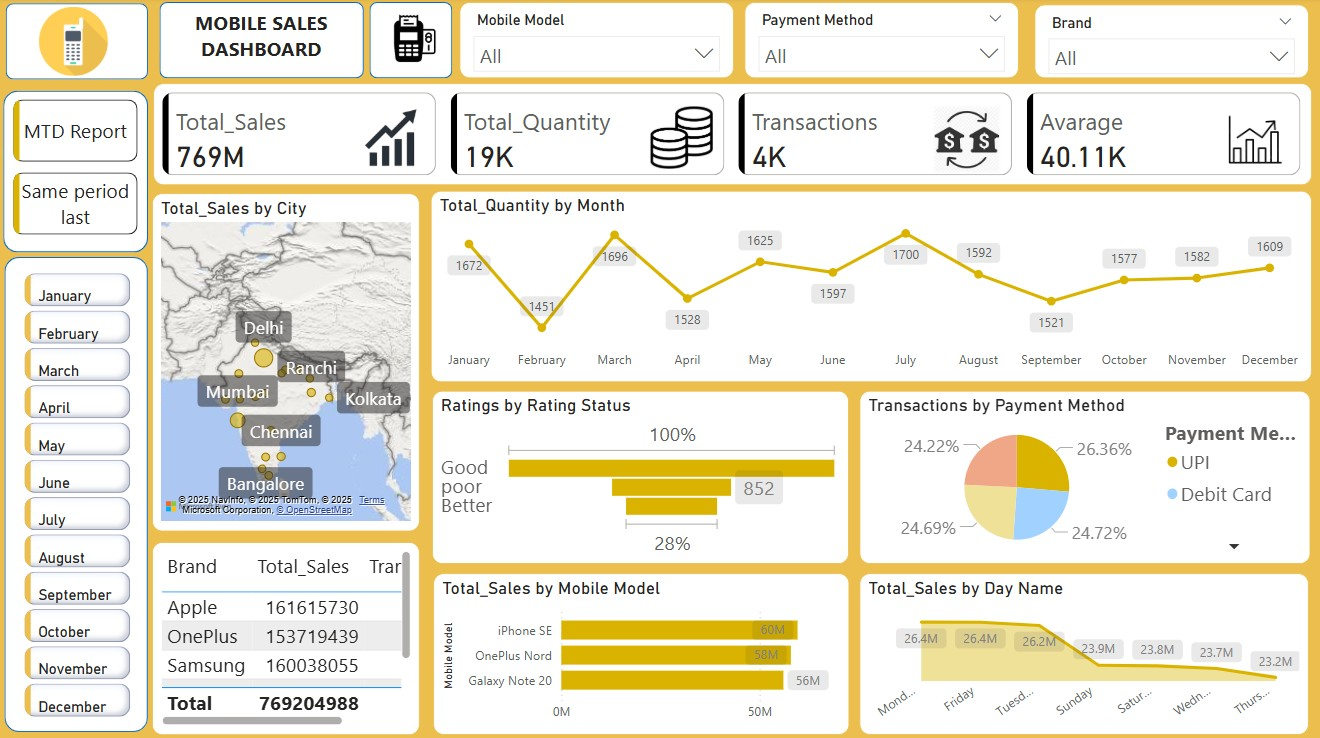

What the dashboard file says about the page in this screenshot:
{"tool":"powerbi","page":{"name":"Dashboard","canvas":[1280,720],"ordinal":0},"visuals":[{"type":"shape","box":[8.8,6.2,137.5,73.8],"z":0},{"type":"image","box":[25,5,96.2,76.2],"z":1000},{"type":"shape","box":[6.2,90,140,156.2],"z":2000},{"type":"shape","box":[7.5,251.2,138.8,458.8],"z":3000},{"type":"advancedSlicerVisual","fields":{"Values":["Custum_Calander.Date.Variation.Date Hierarchy.Month"]},"box":[21.2,261.2,112.5,440],"z":4000},{"type":"cardVisual","fields":{"Data":["Sales_data.Total_Sales","Sales_data.Total_Quantity","Sales_data.Transactions","Sales_data.Avarage"]},"box":[151.2,83.8,1118.8,98.8],"z":5000},{"type":"slicer","fields":{"Values":["Sales_data.Mobile Model"]},"box":[446.2,5,265,73.8],"z":6000},{"type":"slicer","fields":{"Values":["Sales_data.Payment Method"]},"box":[721.2,5,265,73.8],"z":7000},{"type":"slicer","fields":{"Values":["Sales_data.Brand"]},"box":[1001.2,7.5,265,71.2],"z":8000},{"type":"shape","box":[360,5,80,73.8],"z":9000},{"type":"image","box":[371.2,8.8,63.8,63.8],"z":10000},{"type":"shape","box":[156.2,5,197.5,73.8],"z":11000},{"type":"textbox","box":[170,7.5,170,65],"z":12000},{"type":"map","fields":{"Category":["Sales_data.City"],"Size":["Sales_data.Total_Sales"]},"box":[150,190,258.8,326.2],"z":13000},{"type":"lineChart","fields":{"Y":["Sales_data.Total_Quantity"],"Category":["Custum_Calander.Date.Variation.Date Hierarchy.Month"]},"box":[418.8,187.5,850,185],"z":14000},{"type":"funnel","title":" Ratings by Rating Status","fields":{"Category":["Sales_data.Rating Status"],"Y":["CountNonNull(Sales_data.Customer Ratings)"]},"box":[420,380,402.5,167.5],"z":15000},{"type":"pieChart","fields":{"Y":["Sales_data.Transactions"],"Category":["Sales_data.Payment Method"]},"box":[832.5,380,435,167.5],"z":16000},{"type":"clusteredBarChart","fields":{"Category":["Sales_data.Mobile Model"],"Y":["Sales_data.Total_Sales"]},"box":[421.2,556.2,401.2,156.2],"z":17000},{"type":"areaChart","fields":{"Y":["Sales_data.Total_Sales"],"Category":["Custum_Calander.Day Name"]},"box":[832.5,556.2,433.8,156.2],"z":18000},{"type":"tableEx","fields":{"Values":["Sales_data.Brand","Sales_data.Total_Sales","Sales_data.Transactions"]},"box":[150,526.2,258.8,186.2],"z":19000},{"type":"pageNavigator","box":[16.2,98.8,120,131.2],"z":19001}]}

Visuals, with their boxes in screenshot pixels (x1, y1, x2, y2), scaled from the page's 1280x720 canvas onto the 1320x738 screenshot:
shape: 9/6/151/82
image: 26/5/125/83
shape: 6/92/151/252
shape: 8/257/151/728
advancedSlicerVisual - Custum_Calander.Date.Variation.Date Hierarchy.Month: 22/268/138/719
cardVisual - Sales_data.Total_Sales x Sales_data.Total_Quantity: 156/86/1310/187
slicer - Sales_data.Mobile Model: 460/5/733/81
slicer - Sales_data.Payment Method: 744/5/1017/81
slicer - Sales_data.Brand: 1032/8/1306/81
shape: 371/5/454/81
image: 383/9/449/74
shape: 161/5/365/81
textbox: 175/8/351/74
map - Sales_data.City x Sales_data.Total_Sales: 155/195/422/529
lineChart - Sales_data.Total_Quantity x Custum_Calander.Date.Variation.Date Hierarchy.Month: 432/192/1308/382
" Ratings by Rating Status" funnel: 433/389/848/561
pieChart - Sales_data.Transactions x Sales_data.Payment Method: 859/389/1307/561
clusteredBarChart - Sales_data.Mobile Model x Sales_data.Total_Sales: 434/570/848/730
areaChart - Sales_data.Total_Sales x Custum_Calander.Day Name: 859/570/1306/730
tableEx - Sales_data.Brand x Sales_data.Total_Sales: 155/539/422/730
pageNavigator: 17/101/140/236
